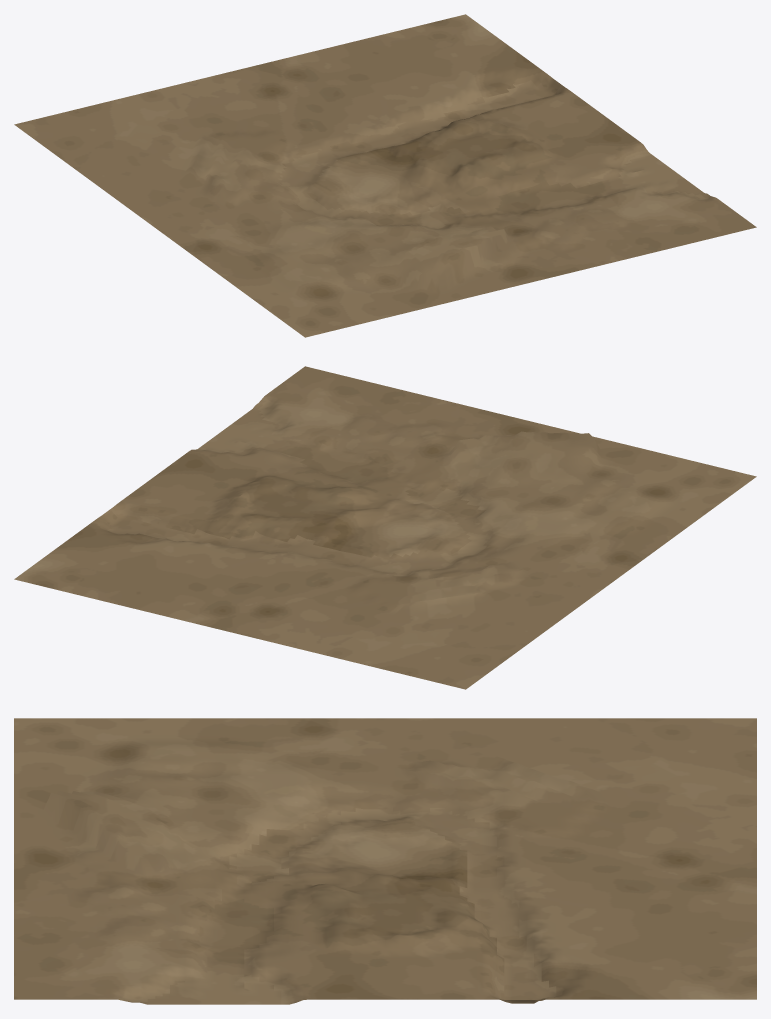
The model's file is GameLEvel 2.fbx.
The picture shows the model from 3 angles, top to bottom: view 1: azimuth 30°, elevation 25°; view 2: azimuth 150°, elevation 25°; view 3: azimuth 270°, elevation 25°; orthographic projection. The views are drawn at different scales.
Visible parts, largest first — view 1: GameLEvel_1; view 2: GameLEvel_1; view 3: GameLEvel_1.
Part boxes in pixels (left/top/right/bottom): GameLEvel_1: left=14, top=14, right=756, bottom=337; GameLEvel_1: left=14, top=366, right=756, bottom=689; GameLEvel_1: left=14, top=718, right=756, bottom=1004.
Bounding box in the file's own units: 19624 × 1154 × 21899.
1 material, 1 textured.
